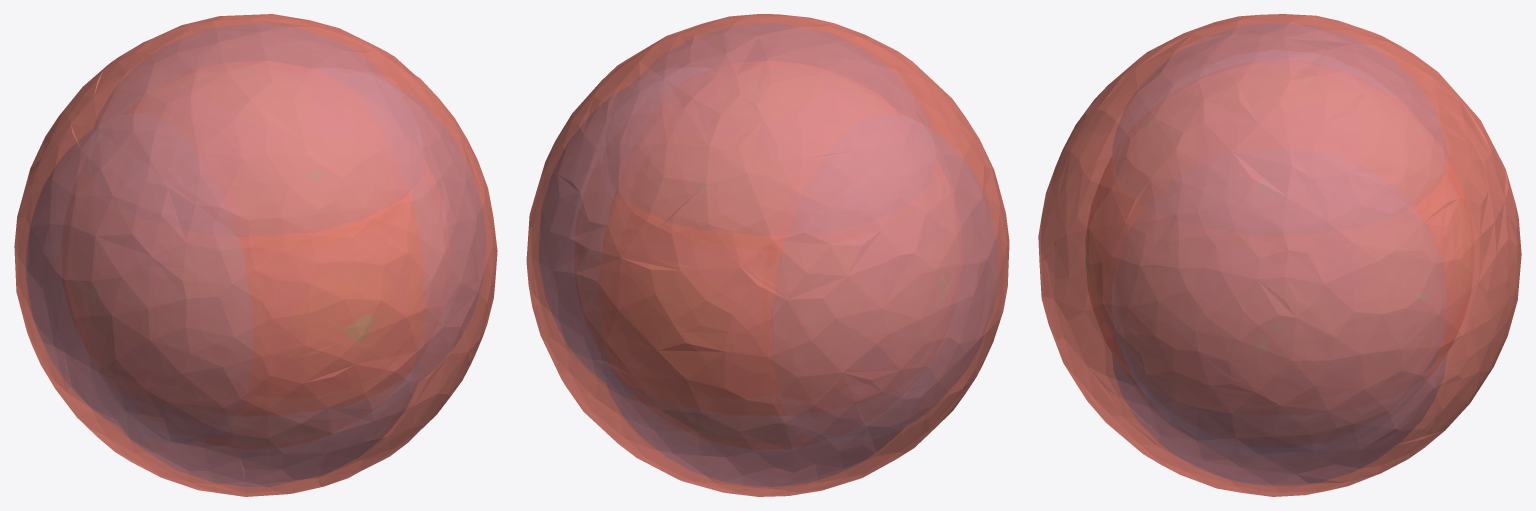
The model's file is orbital.glb.
3 views of the same model, side by side, from view 1: azimuth 30°, elevation 25°; view 2: azimuth 150°, elevation 25°; view 3: azimuth 270°, elevation 25° (orthographic).
Parts seen in each view (by area): view 1: Sn_n5_s_ml0_node, Sn_n4_s_ml0_node, Sn_n5_p_ml-1_node, Sn_n5_p_ml1_node; view 2: Sn_n5_s_ml0_node, Sn_n4_s_ml0_node, Sn_n5_p_ml-1_node, Sn_n5_p_ml1_node; view 3: Sn_n5_s_ml0_node, Sn_n5_p_ml-1_node, Sn_n4_s_ml0_node, Sn_n5_p_ml1_node.
Boxes of the visible parts, bbox=[...] form: Sn_n5_s_ml0_node: bbox=[14, 14, 497, 496]; Sn_n4_s_ml0_node: bbox=[235, 193, 425, 416]; Sn_n5_p_ml-1_node: bbox=[94, 24, 418, 486]; Sn_n5_p_ml1_node: bbox=[26, 84, 485, 440]; Sn_n5_s_ml0_node: bbox=[526, 14, 1009, 496]; Sn_n4_s_ml0_node: bbox=[598, 195, 786, 415]; Sn_n5_p_ml-1_node: bbox=[606, 24, 929, 486]; Sn_n5_p_ml1_node: bbox=[539, 86, 997, 439]; Sn_n5_s_ml0_node: bbox=[1038, 14, 1521, 496]; Sn_n5_p_ml-1_node: bbox=[1112, 23, 1447, 485]; Sn_n4_s_ml0_node: bbox=[1085, 156, 1474, 379]; Sn_n5_p_ml1_node: bbox=[1112, 215, 1446, 458].
Size of the model in its own units: 2.56 by 2.56 by 2.56.
